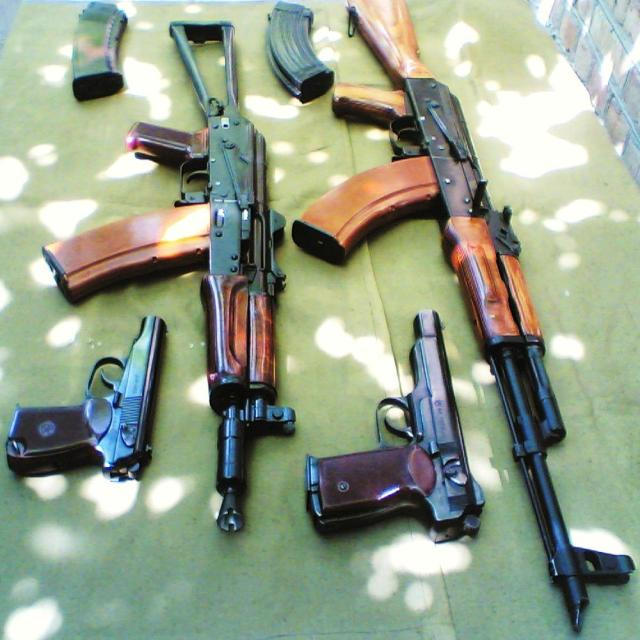firearm: (289, 0, 636, 640), (45, 21, 298, 535)
pistol: (302, 308, 486, 562), (7, 313, 170, 483)
